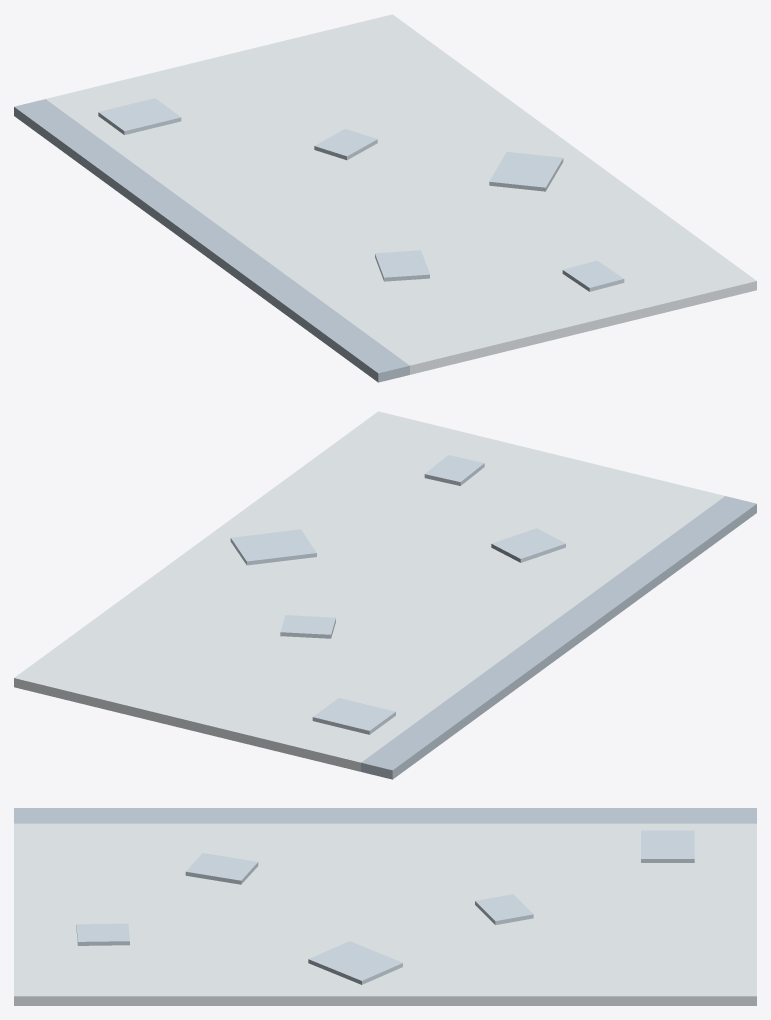
File: env_r2_verge.glb
The picture shows the model from 3 angles, top to bottom: view 1: azimuth 30°, elevation 25°; view 2: azimuth 150°, elevation 25°; view 3: azimuth 270°, elevation 25°; orthographic projection.
Parts seen in each view (by area): view 1: env_r2_verge; view 2: env_r2_verge; view 3: env_r2_verge.
Boxes of the visible parts, x1,y1,x2,y2 form: env_r2_verge: (14,14,756,382); env_r2_verge: (14,411,756,779); env_r2_verge: (14,808,756,1005).
Size of the model in its own units: 6 by 0.2 by 10.
1 material, 1 textured.
